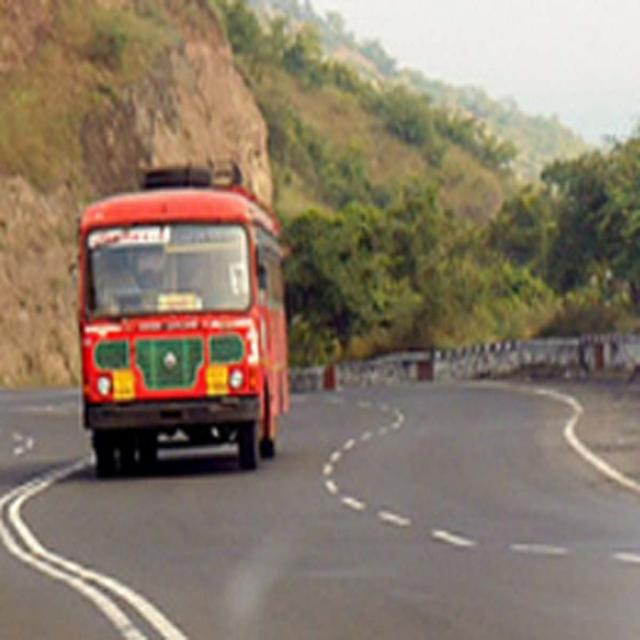BUS: (78, 175, 294, 474)
